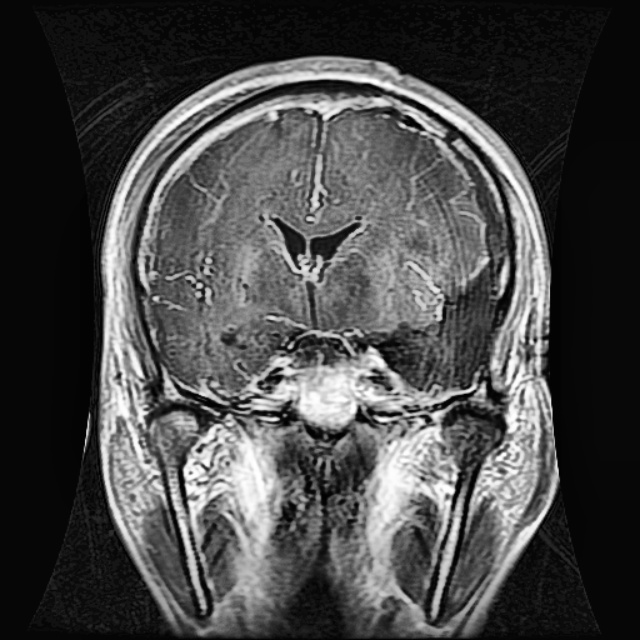Meningioma: (369, 174, 508, 394)
